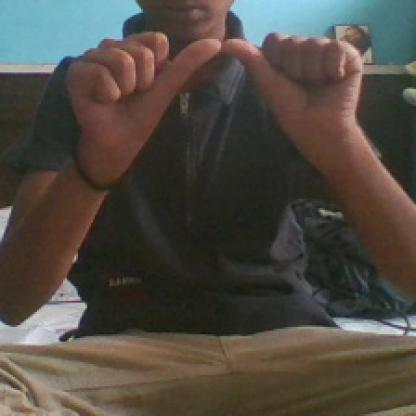A: (55, 21, 371, 142)
